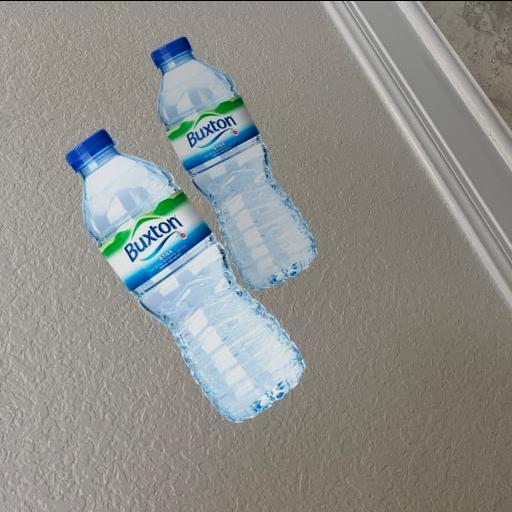bottle: (58, 125, 308, 423), (146, 23, 322, 287)
